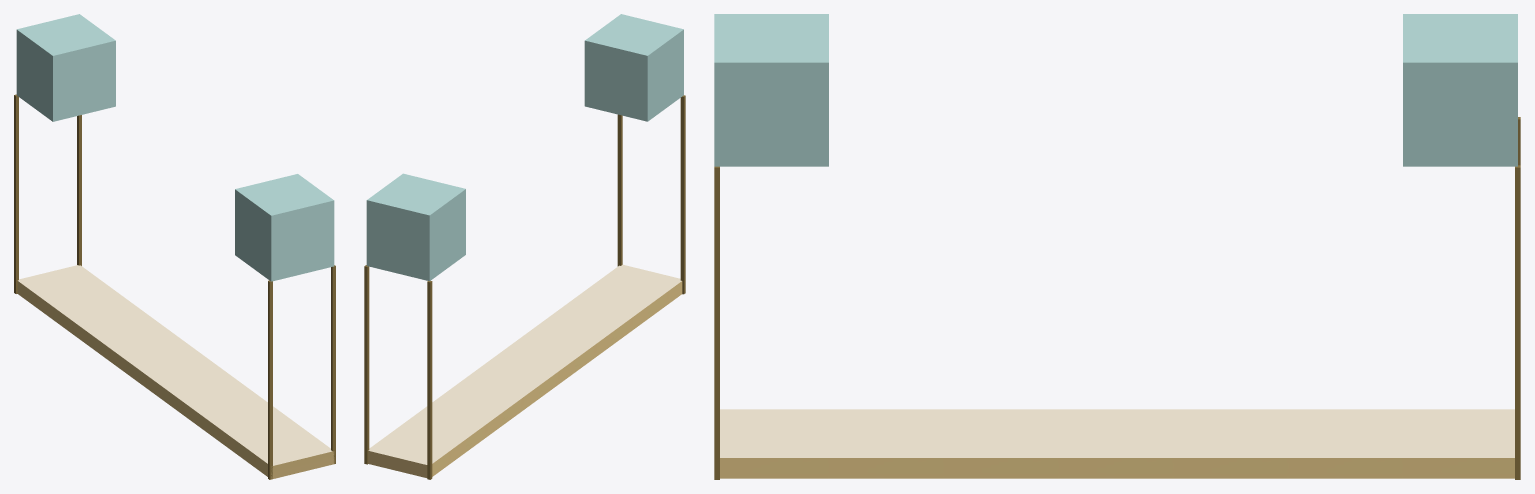
File: Track.fbx
The picture shows the model from 3 angles, left to right: view 1: azimuth 30°, elevation 25°; view 2: azimuth 150°, elevation 25°; view 3: azimuth 270°, elevation 25°; orthographic projection. The views are drawn at different scales.
Visible parts, largest first — view 1: Track; view 2: Track; view 3: Track.
Part boxes in pixels (left/top/right/bottom): Track: left=14, top=14, right=335, bottom=479; Track: left=364, top=14, right=685, bottom=479; Track: left=714, top=14, right=1520, bottom=479.
Bounding box in the file's own units: 1.05 × 4 × 7.03.
